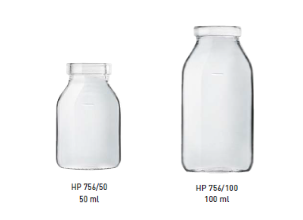glass_bottle: (179, 24, 257, 175), (54, 59, 125, 173)
